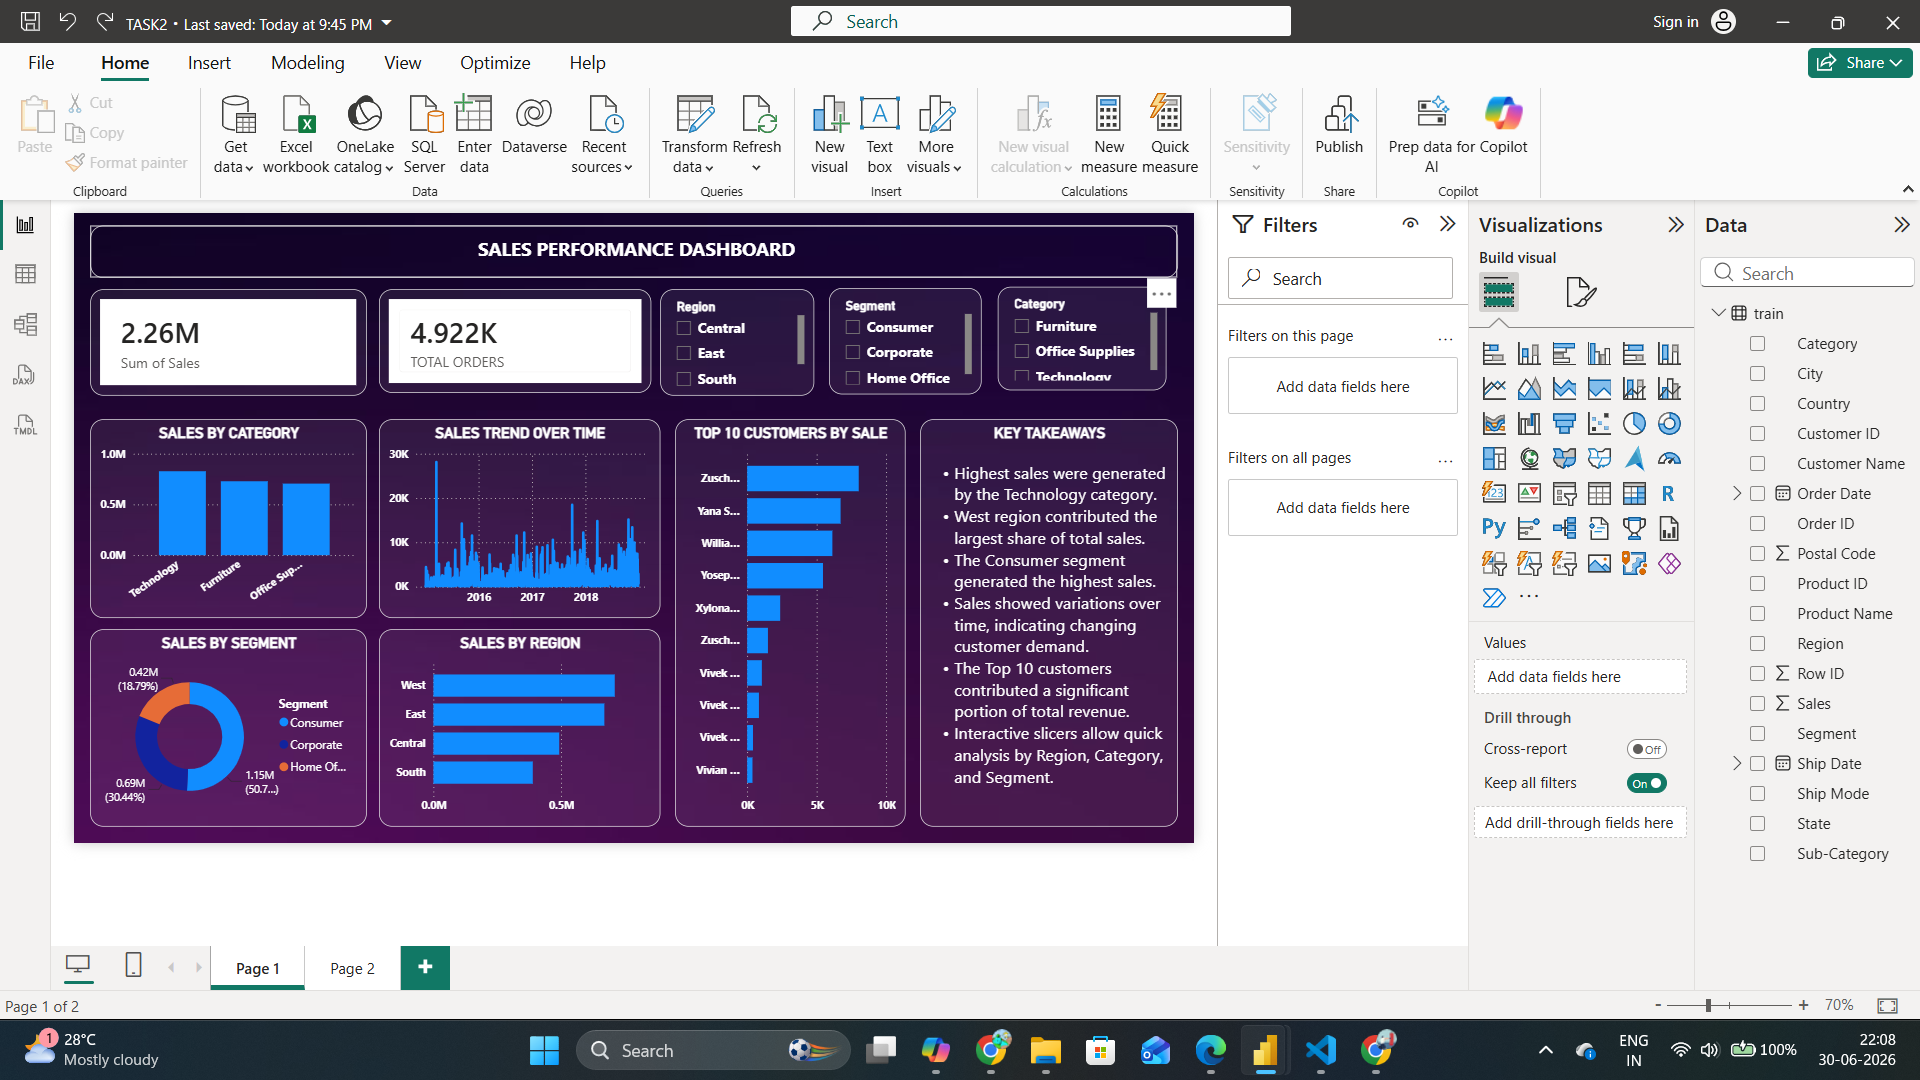

What the dashboard file says about the page in this screenshot:
{"tool":"powerbi","page":{"name":"Page 1","canvas":[1280,720],"ordinal":0},"visuals":[{"type":"clusteredColumnChart","title":"SALES BY CATEGORY","fields":{"Category":["train.Category"],"Y":["Sum(train.Sales)"]},"box":[18.6,235.7,315.7,227.1],"z":0},{"type":"lineChart","title":"SALES TREND OVER TIME","fields":{"Y":["Sum(train.Sales)"],"Category":["train.Order Date"]},"box":[348.6,235.7,321.4,227.1],"z":1000},{"type":"clusteredBarChart","title":"SALES BY REGION","fields":{"Category":["train.Region"],"Y":["Sum(train.Sales)"]},"box":[348.6,475.7,321.4,225.7],"z":2000},{"type":"slicer","fields":{"Values":["train.Region"]},"box":[670,87.1,175.7,121.4],"z":3000},{"type":"clusteredBarChart","title":"TOP 10 CUSTOMERS BY SALE","fields":{"Category":["train.Customer Name"],"Y":["Sum(train.Sales)"]},"box":[687.1,235.7,262.9,465.7],"z":4000},{"type":"slicer","fields":{"Values":["train.Segment"]},"box":[862.9,85.7,174.3,121.4],"z":5000},{"type":"slicer","fields":{"Values":["train.Category"]},"box":[1055.7,84.3,192.9,118.6],"z":6000},{"type":"cardVisual","fields":{"Data":["Count(train.Order ID)"]},"box":[348.6,87.1,311.4,118.6],"z":7000},{"type":"textbox","box":[18.6,14.3,1242.9,60],"z":8000},{"type":"donutChart","title":"SALES BY SEGMENT","fields":{"Category":["train.Segment"],"Y":["Sum(train.Sales)"]},"box":[18.6,475.7,315.7,225.7],"z":9000},{"type":"textbox","title":"KEY TAKEAWAYS","box":[967.1,235.7,294.3,465.7],"z":10000},{"type":"cardVisual","fields":{"Data":["Sum(train.Sales)"]},"box":[18.6,87.1,315.7,121.4],"z":11000}]}

Visuals, with their boxes on the page's 1280x720 design canvas (x1, y1, x2, y2). These are canvas units, not pixel positions in the 1920x1080 screenshot, which may show the page scaled, cropped or inside an application window:
"SALES BY CATEGORY" clusteredColumnChart: rect(19, 236, 334, 463)
"SALES TREND OVER TIME" lineChart: rect(349, 236, 670, 463)
"SALES BY REGION" clusteredBarChart: rect(349, 476, 670, 701)
slicer - train.Region: rect(670, 87, 846, 208)
"TOP 10 CUSTOMERS BY SALE" clusteredBarChart: rect(687, 236, 950, 701)
slicer - train.Segment: rect(863, 86, 1037, 207)
slicer - train.Category: rect(1056, 84, 1249, 203)
cardVisual - Count(train.Order ID): rect(349, 87, 660, 206)
textbox: rect(19, 14, 1262, 74)
"SALES BY SEGMENT" donutChart: rect(19, 476, 334, 701)
"KEY TAKEAWAYS" textbox: rect(967, 236, 1261, 701)
cardVisual - Sum(train.Sales): rect(19, 87, 334, 208)
